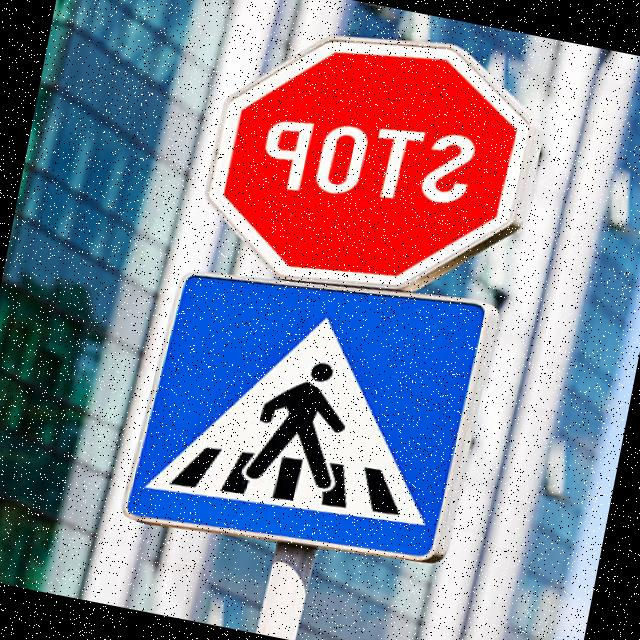crosswalk: (101, 232, 511, 591)
